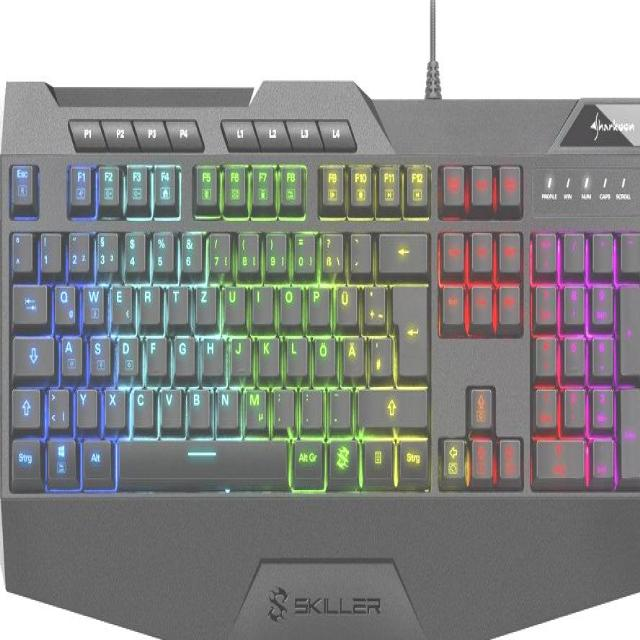0: (291, 225, 314, 272)
1: (37, 227, 59, 271)
2: (65, 226, 88, 272)
3: (93, 225, 116, 270)
4: (122, 225, 143, 270)
5: (149, 225, 172, 270)
6: (178, 225, 201, 270)
7: (206, 227, 229, 271)
8: (235, 226, 258, 272)
9: (262, 226, 285, 272)
a: (58, 331, 81, 374)
accent: (347, 227, 369, 271)
ae: (339, 330, 362, 374)
alt-left: (80, 434, 111, 481)
altgr-right: (290, 432, 322, 482)
b: (186, 382, 209, 426)
c: (129, 382, 152, 426)
caret: (9, 227, 30, 271)
comma: (270, 383, 292, 426)
d: (114, 331, 137, 374)
del: (375, 228, 426, 269)
e: (108, 279, 131, 322)
enter: (389, 277, 427, 376)
f: (143, 331, 164, 374)
g: (171, 330, 192, 373)
h: (199, 331, 220, 374)
hash: (367, 330, 389, 374)
i: (249, 280, 271, 321)
j: (227, 331, 249, 374)
k: (256, 331, 277, 374)
keyboard: (0, 119, 640, 508)
l: (283, 331, 305, 374)
less: (45, 383, 67, 426)
m: (242, 383, 266, 427)
minus: (326, 383, 349, 426)
n: (214, 382, 237, 427)
o: (277, 280, 299, 323)
oe: (311, 331, 334, 375)
p: (305, 279, 327, 323)
plus: (361, 279, 384, 324)
point: (298, 383, 320, 426)
q: (51, 279, 74, 323)
r: (136, 279, 159, 323)
s: (86, 331, 109, 375)
shift-left: (9, 383, 39, 426)
shift-lock: (10, 332, 53, 375)
shift-right: (355, 383, 425, 424)
space: (114, 432, 287, 482)
ss: (317, 227, 342, 271)
strg-left: (8, 433, 40, 481)
strg-right: (395, 433, 427, 481)
t: (165, 279, 186, 322)
tab: (9, 279, 46, 322)
u: (221, 280, 244, 323)
ue: (333, 280, 356, 323)
v: (157, 382, 180, 426)
w: (81, 280, 102, 323)
x: (102, 383, 123, 424)
y: (73, 383, 96, 426)
z: (192, 280, 215, 323)
